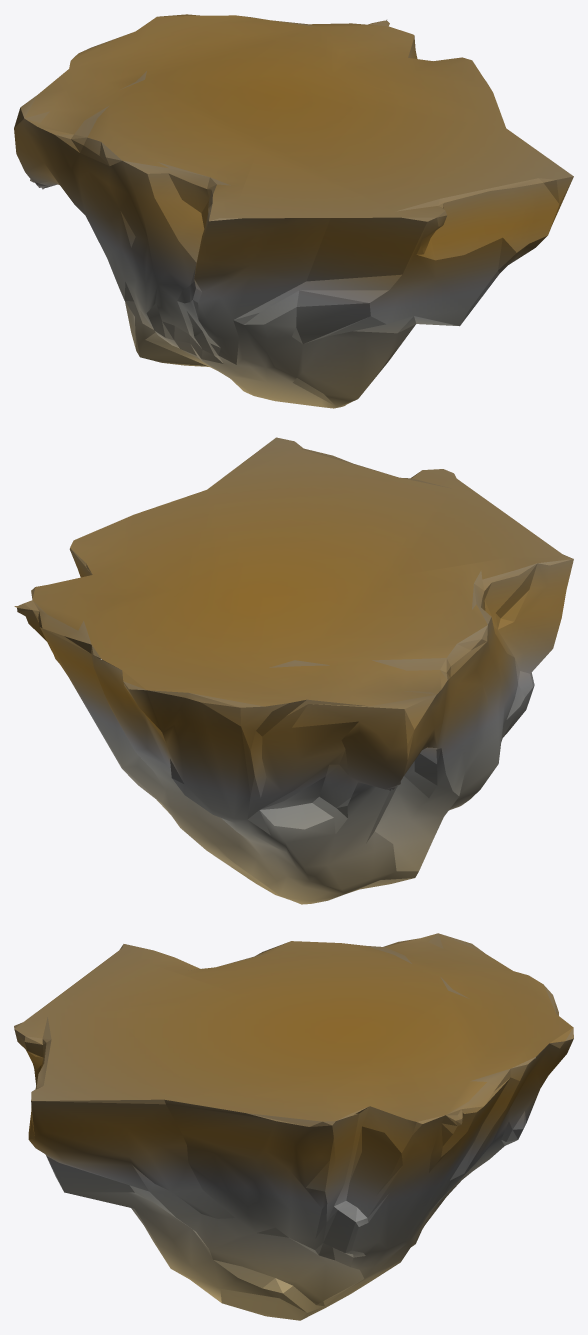
File: island.glb
The picture shows the model from 3 angles, top to bottom: view 1: azimuth 30°, elevation 25°; view 2: azimuth 150°, elevation 25°; view 3: azimuth 270°, elevation 25°; orthographic projection. The views are drawn at different scales.
Parts seen in each view (by area): view 1: Island; view 2: Island; view 3: Island.
Part boxes in pixels (x1,y1,x2,y2): Island: (14,14,573,408); Island: (14,437,573,904); Island: (14,933,573,1320).
Size of what is drawn, in the model's own units: 30.63 by 21.24 by 37.55.
1 material, 1 textured.
